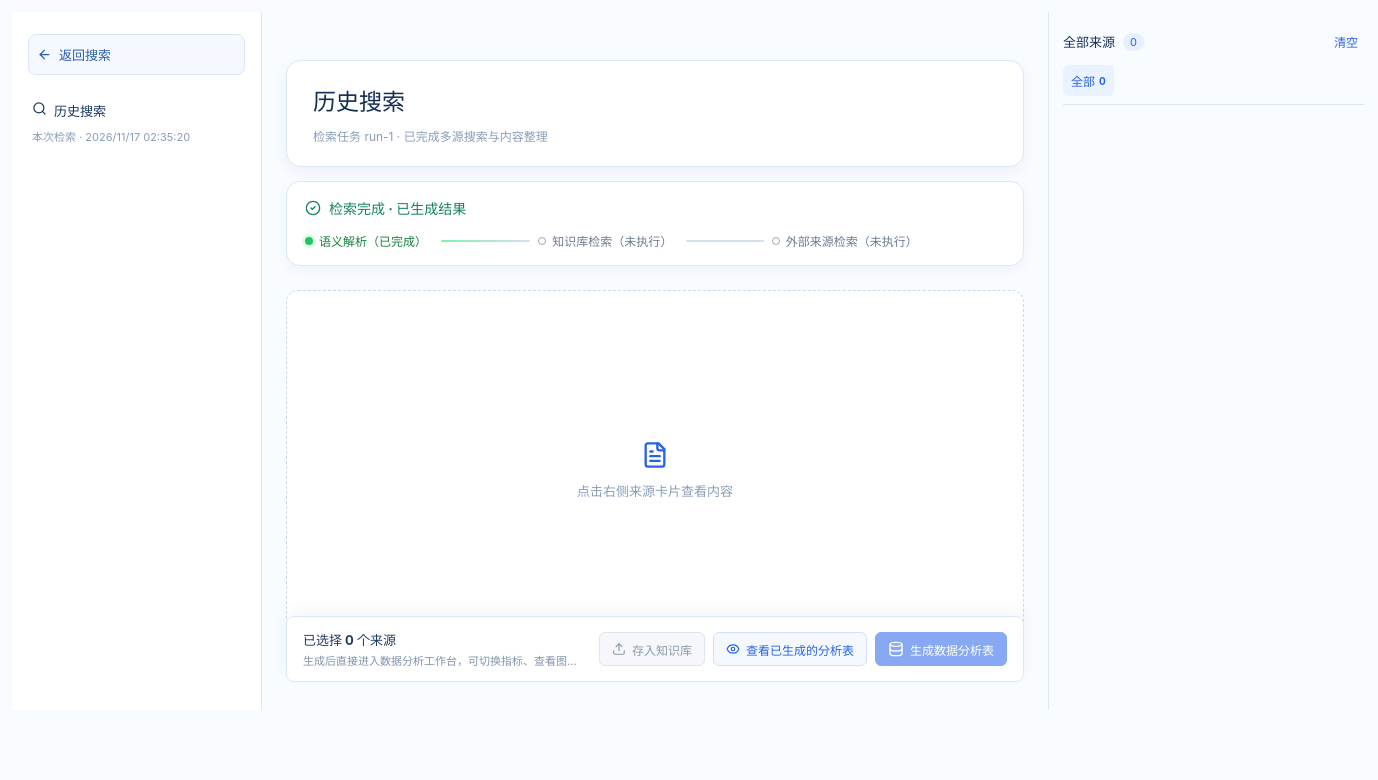
Test: 打开历史分析会话，无需重新勾选或生成
Click the button "查看已生成的分析表": (790, 649) [713, 632, 867, 666]
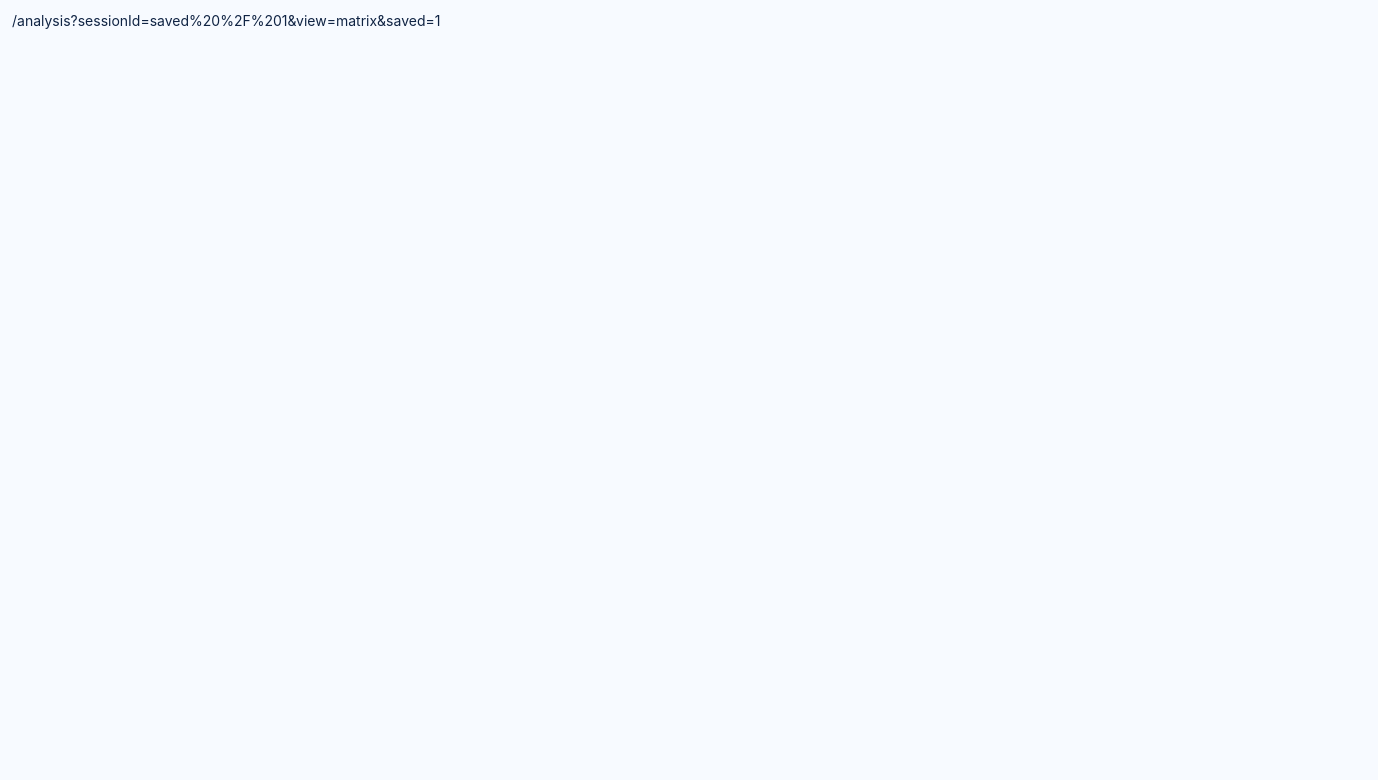
Expected: the text "/analysis?sessionId=saved%20%2F%201&view=matrix&saved=1" is shown, [12, 12, 440, 29]
